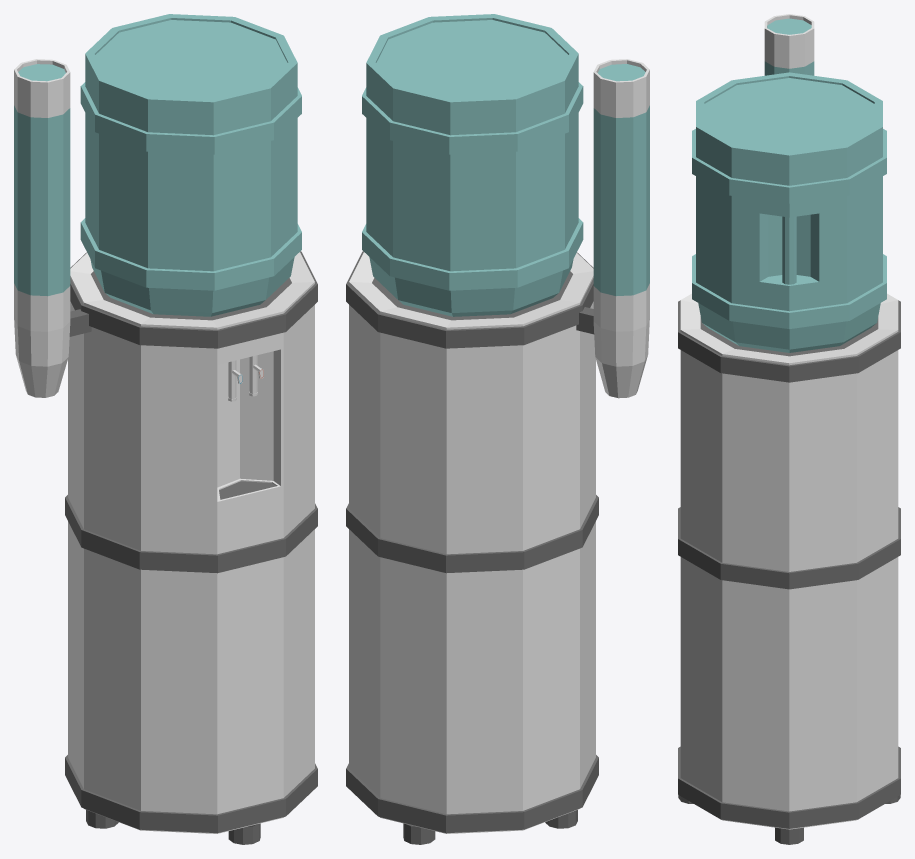
File: cooler.fbx
The picture shows the model from 3 angles, left to right: view 1: azimuth 30°, elevation 25°; view 2: azimuth 150°, elevation 25°; view 3: azimuth 270°, elevation 25°; orthographic projection. The views are drawn at different scales.
Parts seen in each view (by area): view 1: Cylinder_2; view 2: Cylinder_2; view 3: Cylinder_2.
Boxes of the visible parts, x1,y1,x2,y2 form: Cylinder_2: (14, 14, 317, 844); Cylinder_2: (346, 14, 649, 844); Cylinder_2: (678, 14, 900, 844).
Size of the model in its own units: 32.6 by 84.05 by 24.05.
